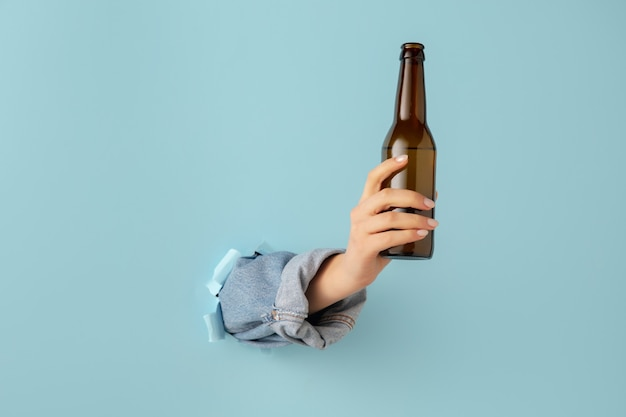alcohol: (381, 41, 438, 260)
